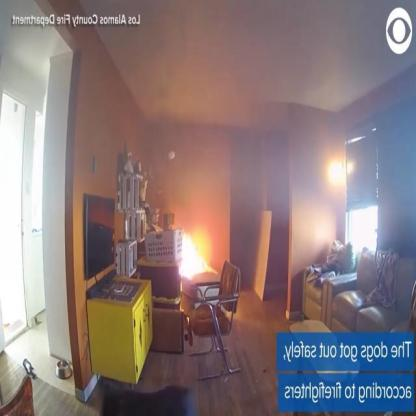Fire: (178, 226, 209, 279)
